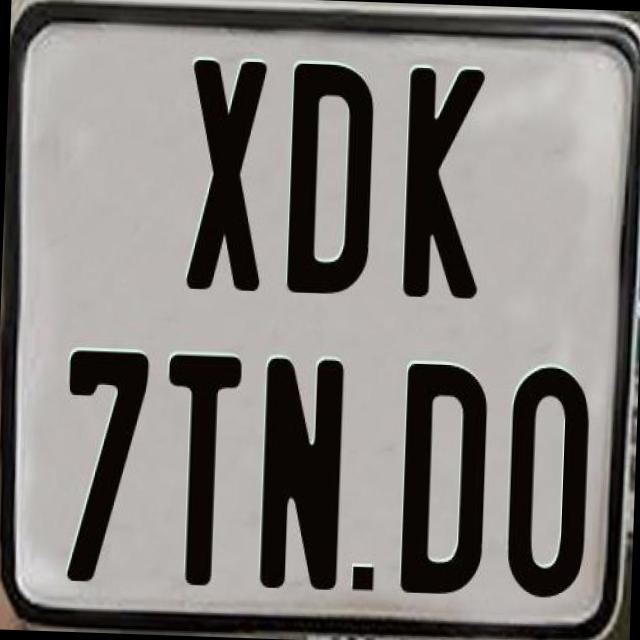0: (501, 363, 588, 600)
7: (60, 349, 148, 583)
D: (396, 360, 486, 595), (286, 63, 374, 300)
K: (400, 66, 486, 306)
N: (255, 354, 342, 594)
T: (158, 352, 244, 590)
X: (182, 56, 266, 291)
